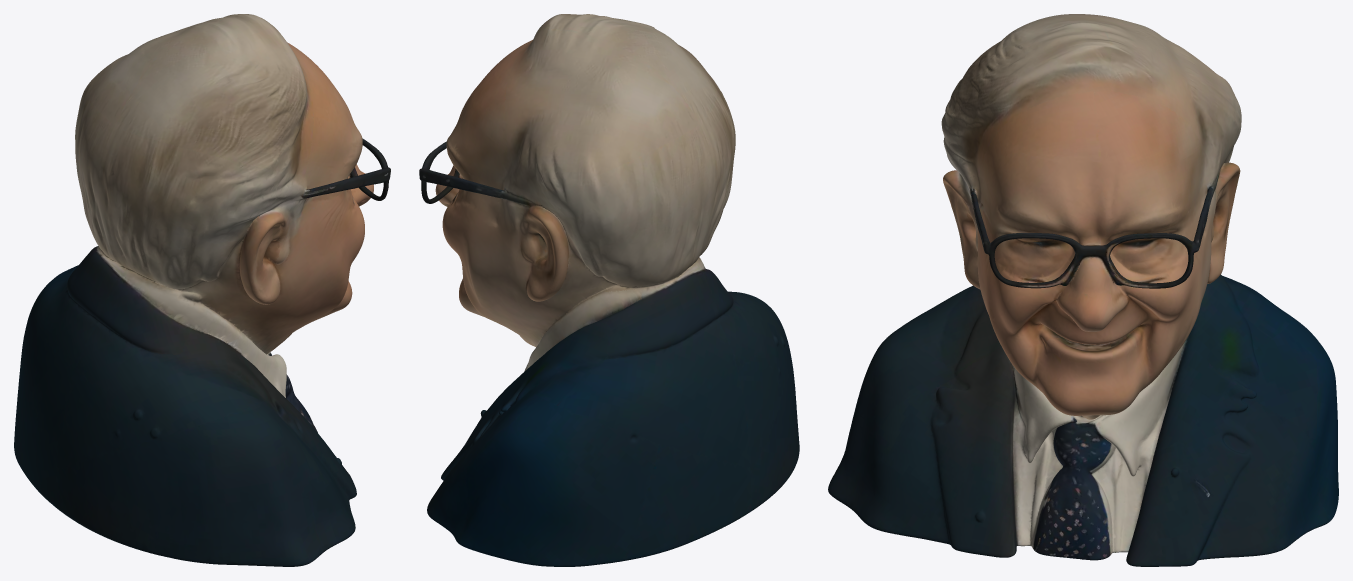
Rendered from warren-buffett.glb.
3 renders of one model, left to right at view 1: azimuth 30°, elevation 25°; view 2: azimuth 150°, elevation 25°; view 3: azimuth 270°, elevation 25°, orthographic. The views are drawn at different scales.
Parts seen in each view (by area): view 1: tripo_node_265673ca-8b2d-4507-9937-25f9c05ac20b; view 2: tripo_node_265673ca-8b2d-4507-9937-25f9c05ac20b; view 3: tripo_node_265673ca-8b2d-4507-9937-25f9c05ac20b.
Boxes of the visible parts, bbox=[...] form: tripo_node_265673ca-8b2d-4507-9937-25f9c05ac20b: bbox=[14, 14, 390, 566]; tripo_node_265673ca-8b2d-4507-9937-25f9c05ac20b: bbox=[419, 14, 799, 566]; tripo_node_265673ca-8b2d-4507-9937-25f9c05ac20b: bbox=[828, 14, 1338, 566].
Bounding box in the file's own units: 0.7426 × 1 × 0.9519.
Materials: 1 (1 with a texture image).
